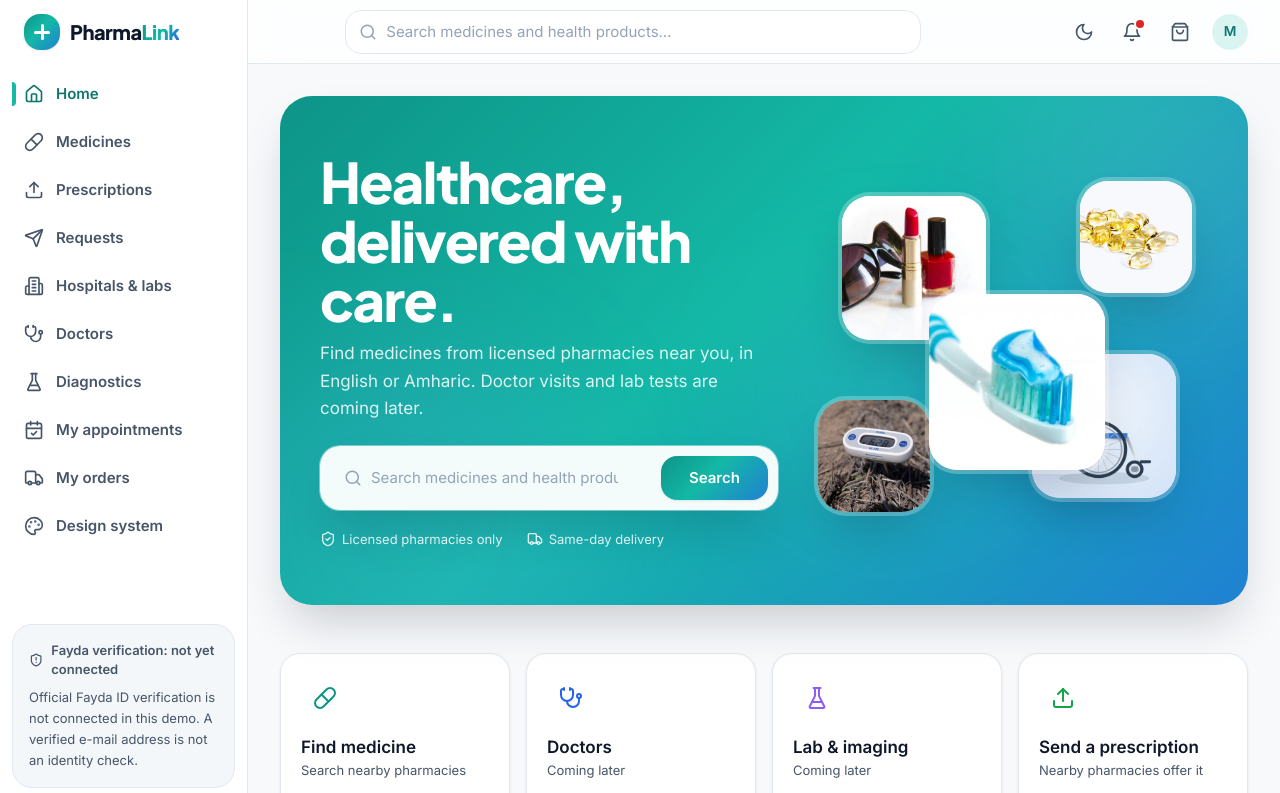
Scenario: the cart drawer (Work 148) › closes with Escape or the close button, and says when the cart is empty
Click the button named "Cart" at [1180, 32], box [1160, 12, 1200, 52]
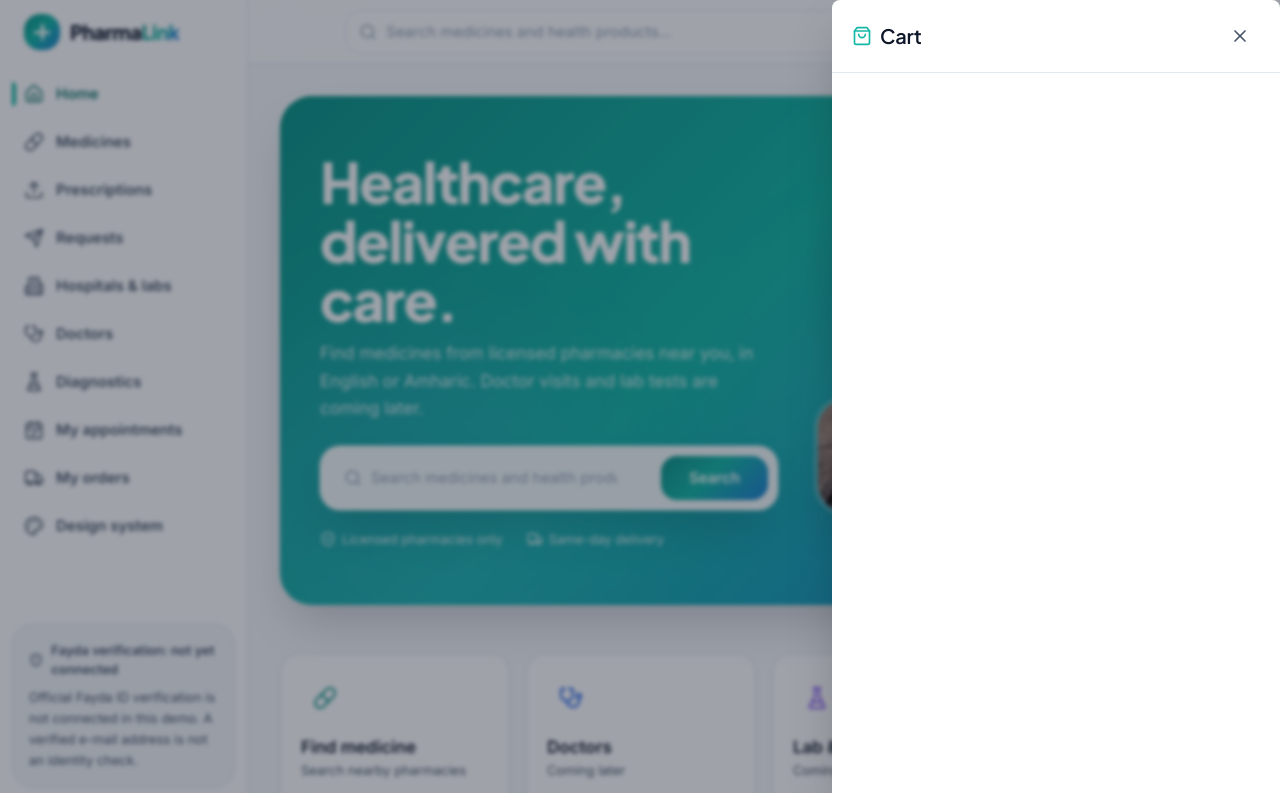
Press Escape
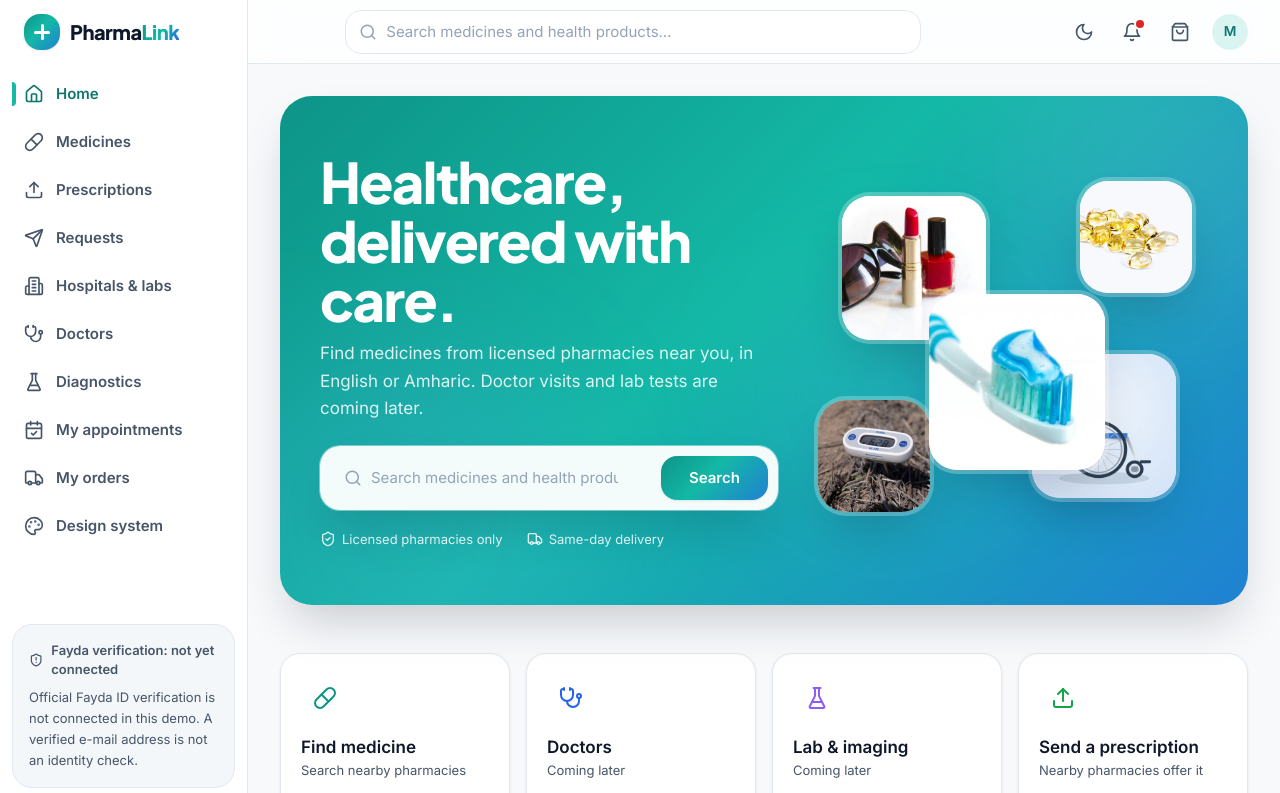
Result: the heading "Cart" is gone
Click the button named "Cart" at [1180, 32], box [1160, 12, 1200, 52]
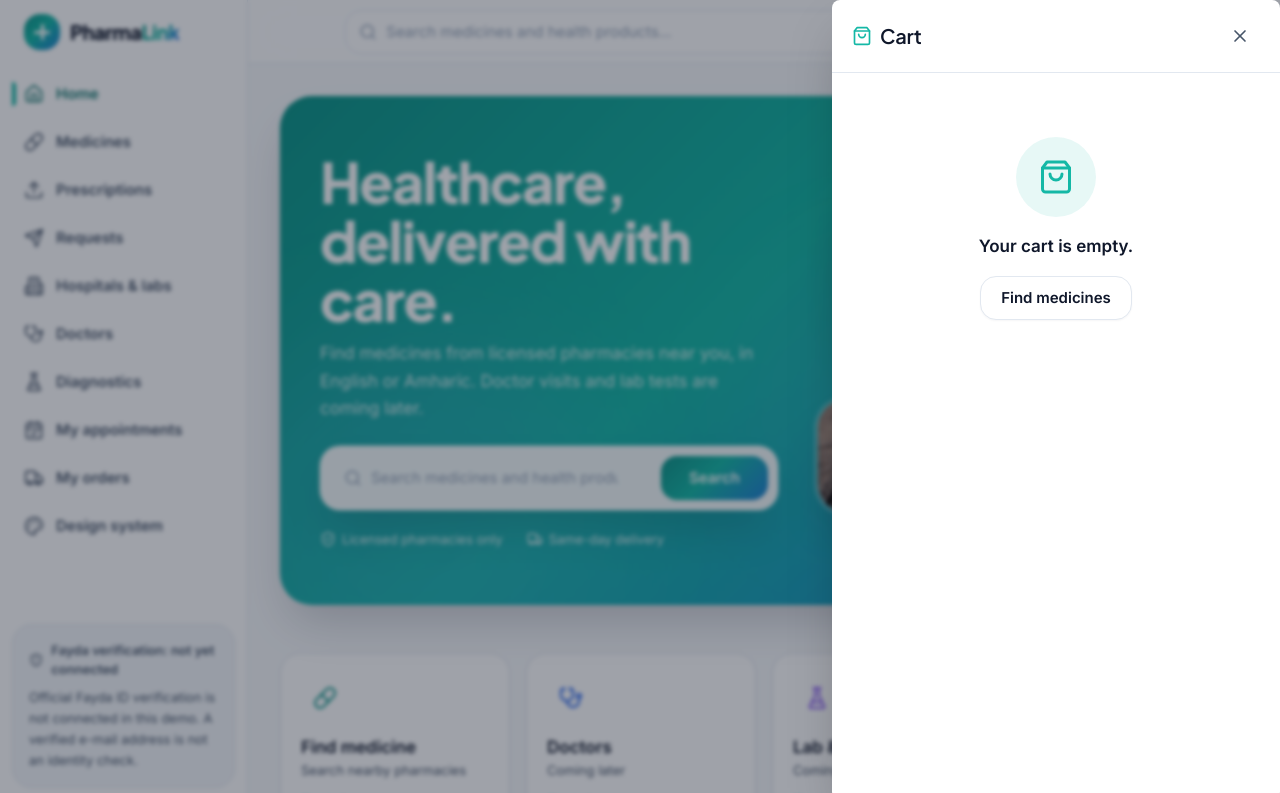
Click the button named "Close" at [1240, 36], box [1220, 16, 1260, 56]
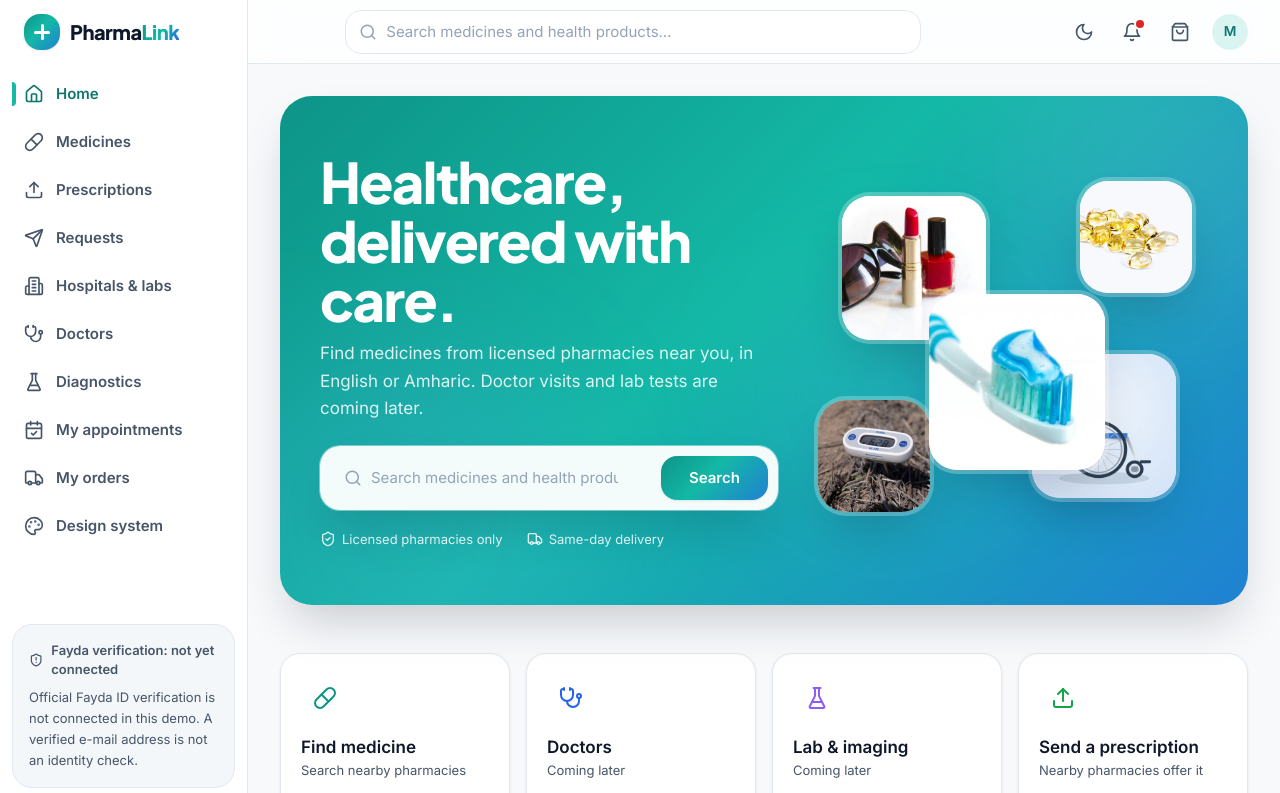
Result: the heading "Cart" is gone
